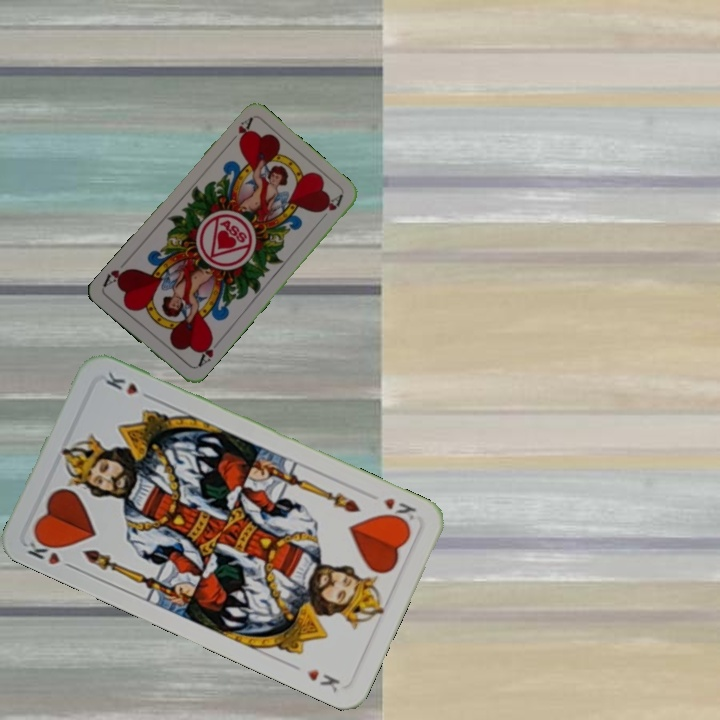HA: (224, 114, 255, 148), (192, 333, 216, 370)
HK: (23, 531, 78, 572), (379, 494, 419, 529)
